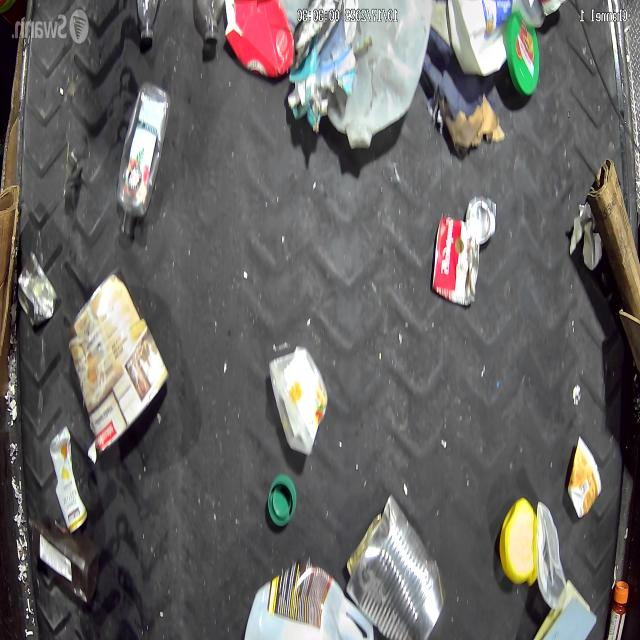can: (346, 497, 444, 640), (432, 212, 482, 307), (18, 255, 57, 329), (464, 196, 496, 249)
milk_jug: (342, 1, 437, 150), (243, 563, 373, 640)
plastic_bottle: (114, 82, 168, 231), (196, 0, 225, 44), (137, 0, 158, 43)
